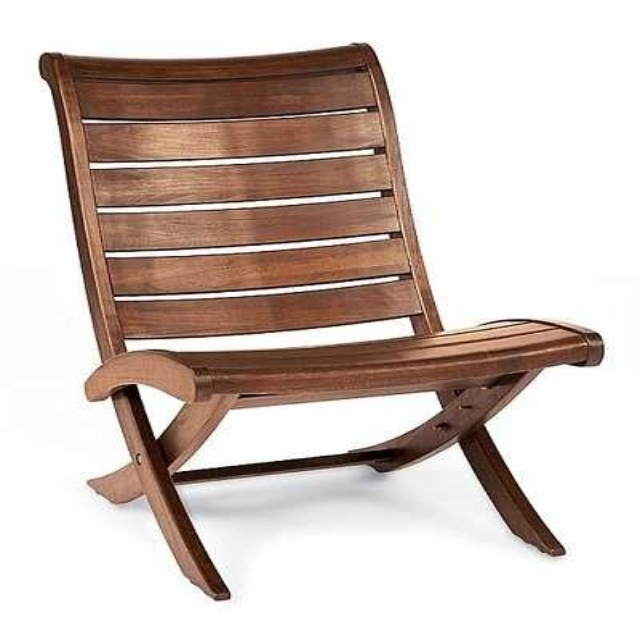obstacle: (40, 45, 602, 599)
